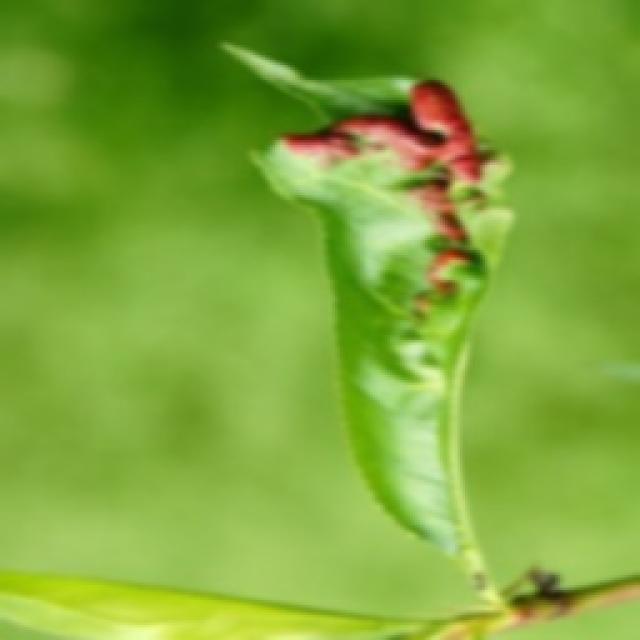peach_leaf_curl: (220, 43, 520, 605)
